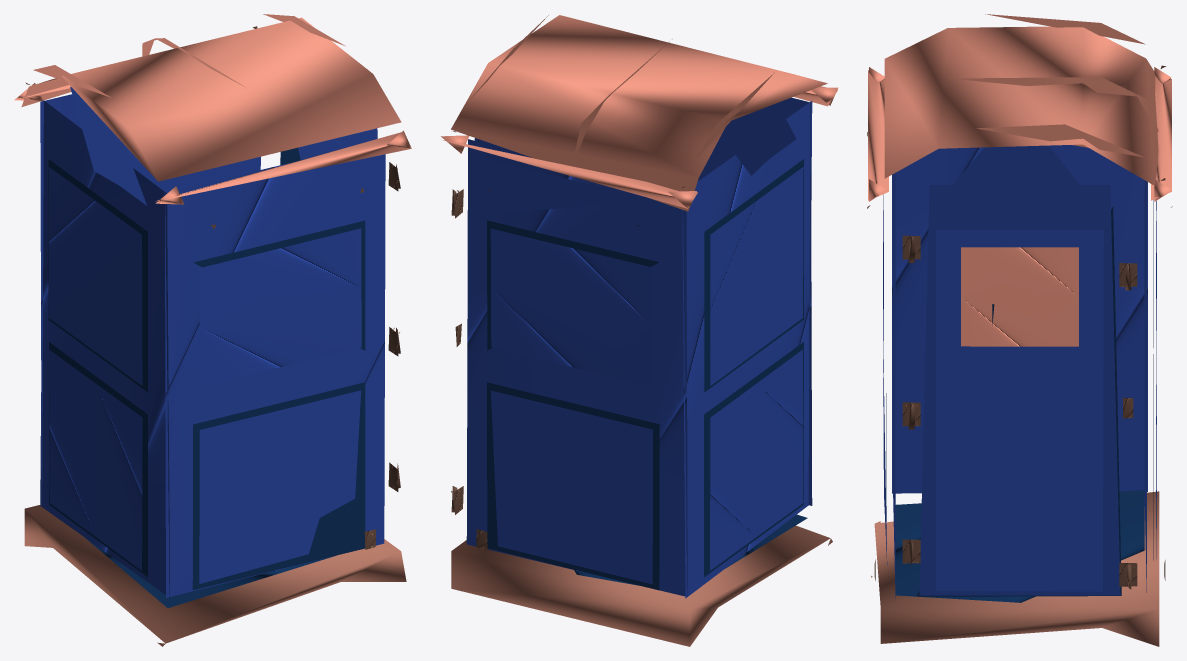
3 renders of one model, left to right at view 1: azimuth 30°, elevation 25°; view 2: azimuth 150°, elevation 25°; view 3: azimuth 270°, elevation 25°, orthographic.
Bounding box in the file's own units: 1.3 × 2.45 × 1.31.
